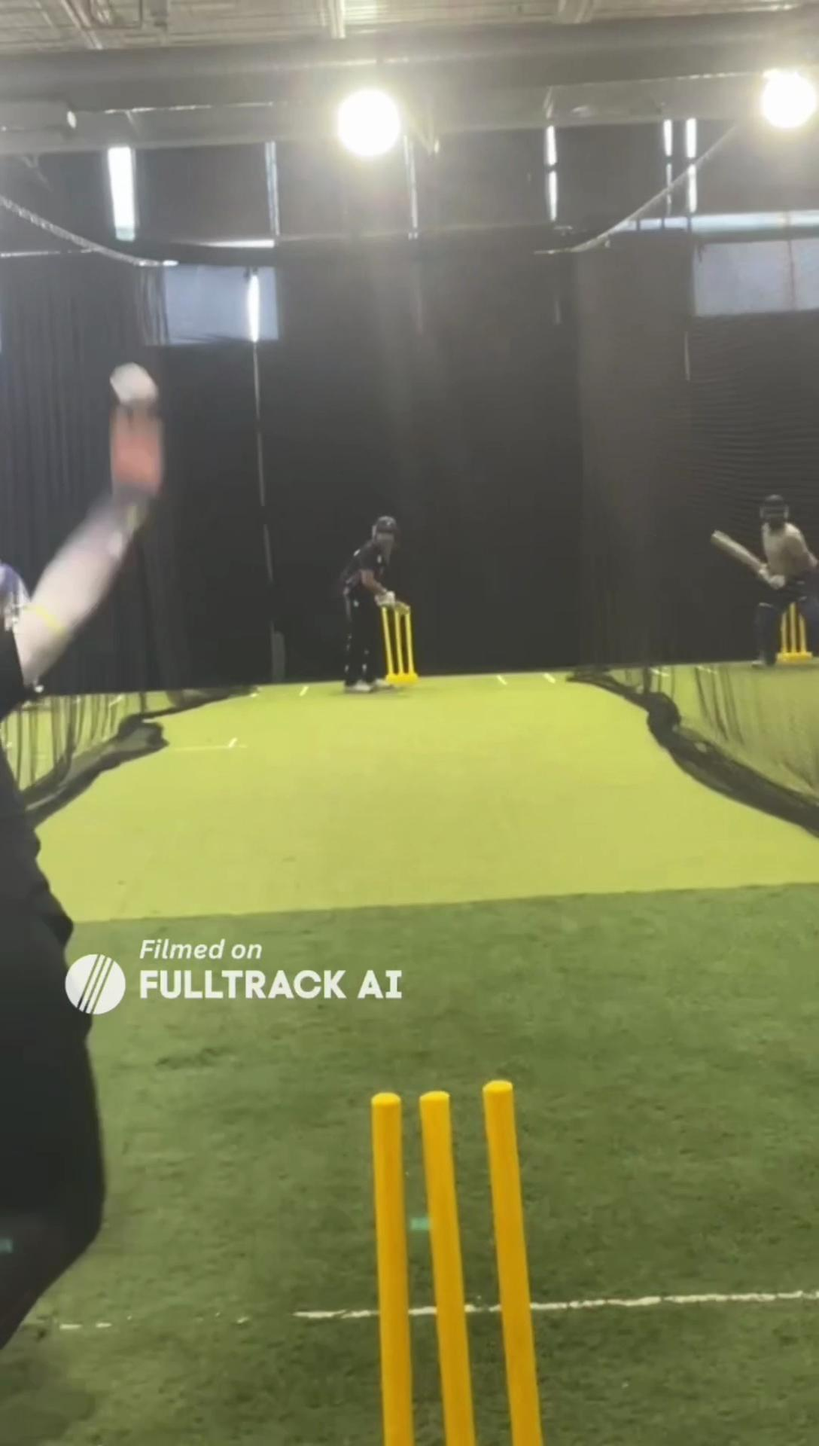ball: (93, 354, 176, 417)
